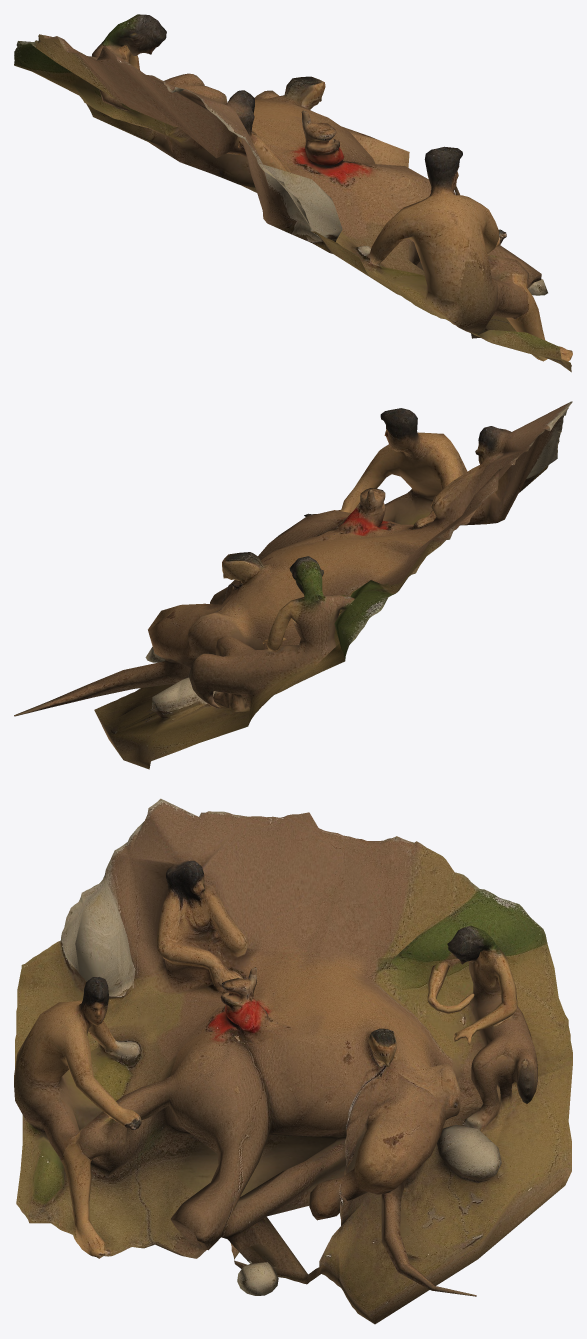
The model's file is paete_1.glb.
The picture shows the model from 3 angles, top to bottom: view 1: azimuth 30°, elevation 25°; view 2: azimuth 150°, elevation 25°; view 3: azimuth 270°, elevation 25°; orthographic projection. The views are drawn at different scales.
Visible parts, largest first — view 1: tripo_node_10b11d92-7beb-40bb-8e95-6d8670da3f59; view 2: tripo_node_10b11d92-7beb-40bb-8e95-6d8670da3f59; view 3: tripo_node_10b11d92-7beb-40bb-8e95-6d8670da3f59.
Part boxes in pixels (box(x1,y1,x2,y2)): tripo_node_10b11d92-7beb-40bb-8e95-6d8670da3f59: box(14, 14, 572, 372); tripo_node_10b11d92-7beb-40bb-8e95-6d8670da3f59: box(14, 401, 572, 769); tripo_node_10b11d92-7beb-40bb-8e95-6d8670da3f59: box(14, 798, 572, 1324).
Size of the model in its own units: 0.8418 by 0.6895 by 0.998.
1 material, 1 textured.
